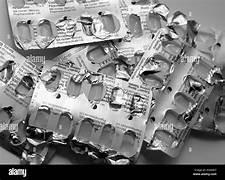pill_Strip: (29, 63, 150, 158), (145, 57, 214, 156), (7, 0, 126, 49), (0, 42, 39, 153), (129, 29, 183, 97), (29, 63, 76, 139), (29, 64, 76, 140), (29, 64, 75, 140), (0, 42, 40, 123), (53, 42, 130, 79), (130, 29, 182, 83), (104, 95, 149, 156), (0, 121, 54, 163), (75, 119, 134, 157), (116, 4, 155, 60), (53, 42, 117, 72), (29, 104, 74, 141), (4, 60, 40, 106), (193, 82, 224, 135), (167, 11, 200, 46), (174, 76, 205, 112), (140, 54, 171, 87), (0, 41, 24, 83), (193, 27, 222, 59), (90, 10, 120, 39), (115, 51, 143, 79), (20, 143, 55, 164), (35, 19, 57, 48), (147, 3, 168, 32), (0, 131, 23, 157), (167, 11, 187, 40), (26, 123, 52, 144), (194, 28, 215, 52), (15, 20, 33, 48), (41, 68, 61, 91), (114, 56, 133, 80), (15, 74, 34, 97), (33, 105, 51, 128), (100, 12, 120, 32), (212, 32, 224, 65), (55, 112, 72, 135), (214, 96, 224, 134), (120, 131, 135, 156), (10, 121, 25, 145), (99, 124, 114, 147), (127, 14, 142, 37), (77, 118, 92, 141), (0, 60, 14, 82), (0, 106, 12, 131), (67, 77, 81, 96), (120, 0, 158, 7), (80, 15, 93, 35), (88, 83, 103, 100), (148, 13, 161, 32), (98, 64, 115, 76), (58, 73, 68, 91), (9, 0, 25, 7), (55, 0, 66, 5)
